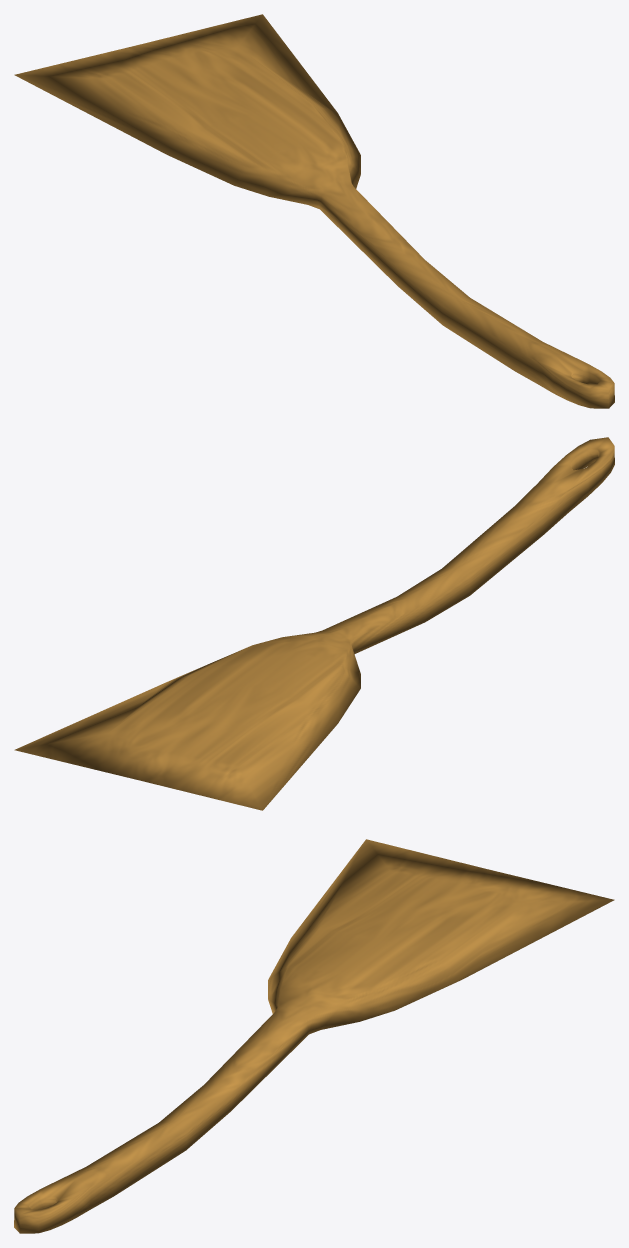
File: ustensils1.glb
3 renders of one model, top to bottom at view 1: azimuth 30°, elevation 25°; view 2: azimuth 150°, elevation 25°; view 3: azimuth 330°, elevation 25°, orthographic.
Parts seen in each view (by area): view 1: ustensils1; view 2: ustensils1; view 3: ustensils1.
Part boxes in pixels (x1,y1,x2,y2): ustensils1: (14, 14, 614, 408); ustensils1: (14, 437, 614, 810); ustensils1: (14, 839, 614, 1233).
Bounding box in the file's own units: 0.865 × 0.2057 × 2.83.
1 material, 1 textured.
